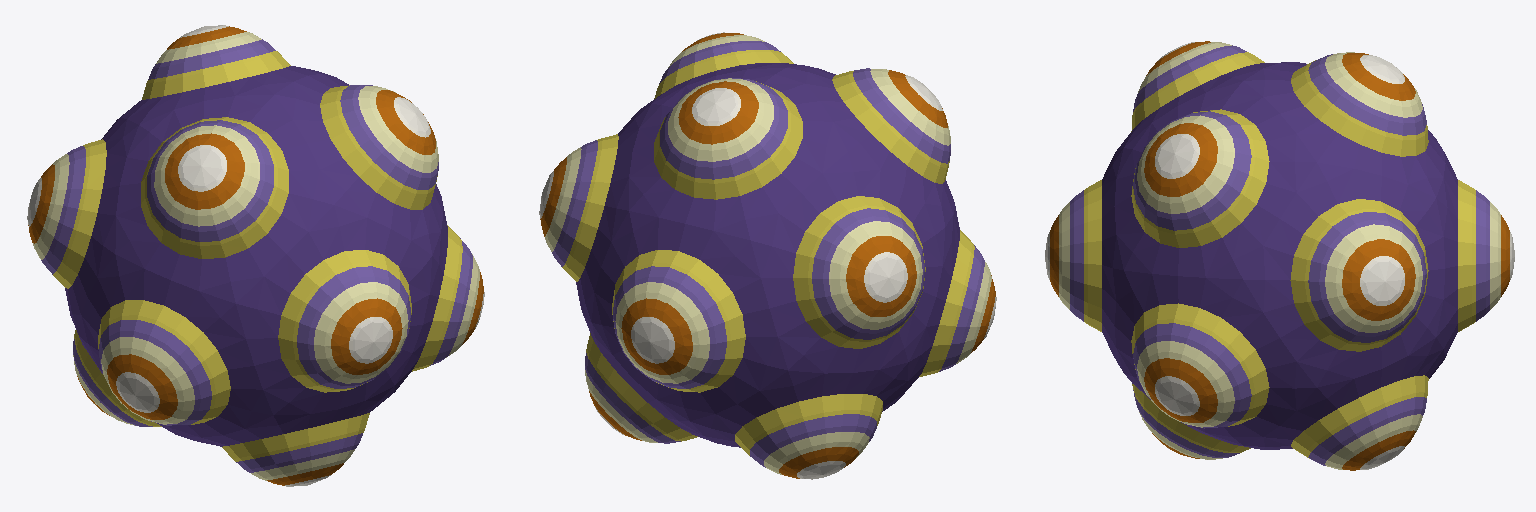
The picture shows the model from 3 angles: view 1: azimuth 30°, elevation 25°; view 2: azimuth 150°, elevation 25°; view 3: azimuth 270°, elevation 25°; orthographic projection.
Visible parts, largest first — view 1: core_08_0; view 2: core_08_0; view 3: core_08_0.
Boxes of the visible parts, x1=… form: core_08_0: x1=27, y1=25, x2=484, y2=486; core_08_0: x1=539, y1=32, x2=996, y2=479; core_08_0: x1=1045, y1=41, x2=1514, y2=470.
Bounding box in the file's own units: 0.0478 × 0.0494 × 0.0537.
1 materials, 1 textured.